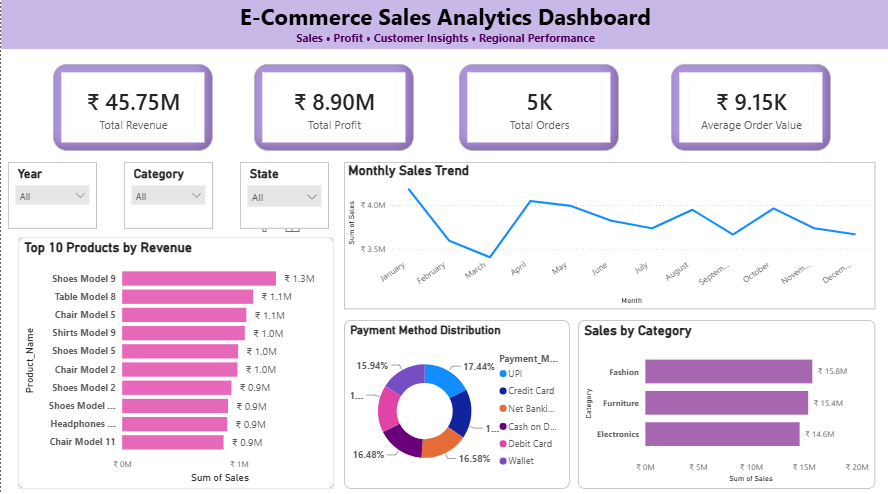

The dashboard page shown, as its layout file describes it:
{"tool":"powerbi","page":{"name":"E-Commerce Dashboard","canvas":[1280,720],"ordinal":0},"visuals":[{"type":"textbox","box":[0,0,1280.2,74.9],"z":0},{"type":"lineChart","title":"Monthly Sales Trend","fields":{"Y":["Sum(public orders.Sales)"],"Category":["public orders.Order_Date.Variation.Date Hierarchy.Month"]},"box":[493.9,237.6,764.6,211.7],"z":1000},{"type":"clusteredBarChart","title":"Sales by Category","fields":{"Category":["public orders.Category"],"Y":["Sum(public orders.Sales)"]},"box":[830.9,465.1,427.7,243.4],"z":2000},{"type":"clusteredBarChart","title":"Top 10 Products by Revenue","fields":{"Category":["public orders.Product_Name"],"Y":["Sum(public orders.Sales)"]},"box":[24.5,345.6,455,362.9],"z":3000},{"type":"donutChart","title":"Payment Method Distribution","fields":{"Category":["public orders.Payment_Method"],"Y":["CountNonNull(public orders.Order_ID)"]},"box":[493.9,465.1,325.4,243.4],"z":4000},{"type":"slicer","fields":{"Values":["public orders.Order_Date.Variation.Date Hierarchy.Year"]},"box":[10.1,237.6,128,96],"z":5000},{"type":"slicer","fields":{"Values":["public orders.Category"]},"box":[177,237.6,128.2,96.5],"z":6000},{"type":"slicer","fields":{"Values":["public orders.State"]},"box":[344.2,237.6,128,96],"z":7000},{"type":"cardVisual","fields":{"Data":["Avg(public orders.Sales)"]},"box":[964.8,96.5,230.4,125.3],"z":8000},{"type":"cardVisual","fields":{"Data":["Sum(public orders.Sales)"]},"box":[74.9,96.5,230.4,125.3],"z":9000},{"type":"cardVisual","fields":{"Data":["Sum(public orders.Profit)"]},"box":[364.3,96.5,230.4,125.3],"z":10000},{"type":"cardVisual","fields":{"Data":["CountNonNull(public orders.Order_ID)"]},"box":[659.5,96.5,230.4,125.3],"z":11000}]}

Visuals, with their boxes in screenshot pixels (x1, y1, x2, y2), scaled from the page's 1280x720 canvas onto the 888x494 screenshot:
textbox: bbox=(0, 0, 887, 51)
"Monthly Sales Trend" lineChart: bbox=(343, 163, 873, 308)
"Sales by Category" clusteredBarChart: bbox=(576, 319, 873, 486)
"Top 10 Products by Revenue" clusteredBarChart: bbox=(17, 237, 333, 486)
"Payment Method Distribution" donutChart: bbox=(343, 319, 568, 486)
slicer - public orders.Order_Date.Variation.Date Hierarchy.Year: bbox=(7, 163, 96, 229)
slicer - public orders.Category: bbox=(123, 163, 212, 229)
slicer - public orders.State: bbox=(239, 163, 328, 229)
cardVisual - Avg(public orders.Sales): bbox=(669, 66, 829, 152)
cardVisual - Sum(public orders.Sales): bbox=(52, 66, 212, 152)
cardVisual - Sum(public orders.Profit): bbox=(253, 66, 413, 152)
cardVisual - CountNonNull(public orders.Order_ID): bbox=(458, 66, 617, 152)
